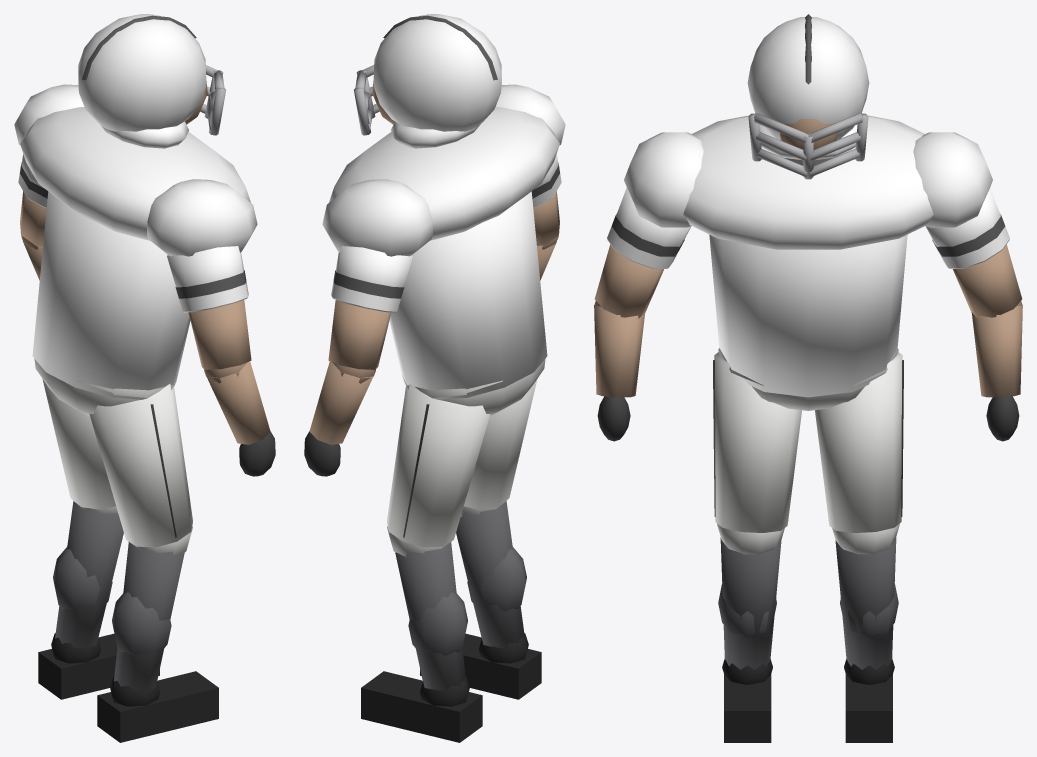
The model's file is player.glb.
The picture shows the model from 3 angles, left to right: view 1: azimuth 30°, elevation 25°; view 2: azimuth 150°, elevation 25°; view 3: azimuth 270°, elevation 25°; orthographic projection. The views are drawn at different scales.
Parts seen in each view (by area): view 1: torso, shin_R, thigh_R, shin_L, upperarm_R, forearm_R, thigh_L, hips, upperarm_L; view 2: torso, shin_L, thigh_L, shin_R, upperarm_L, forearm_L, thigh_R, hips, upperarm_R; view 3: torso, thigh_L, thigh_R, shin_L, shin_R, upperarm_L, upperarm_R, forearm_L, forearm_R, hips.
Boxes of the visible parts, x1,y1,x2,y2 form: torso: (14, 14, 257, 399); shin_R: (97, 526, 218, 742); thigh_R: (89, 384, 192, 547); shin_L: (38, 500, 159, 699); upperarm_R: (167, 246, 251, 369); forearm_R: (204, 361, 275, 476); thigh_L: (42, 379, 115, 509); hips: (34, 359, 177, 415); upperarm_L: (18, 154, 48, 245); torso: (322, 14, 565, 399); shin_L: (361, 526, 482, 742); thigh_L: (387, 384, 490, 547); shin_R: (420, 500, 541, 699); upperarm_L: (328, 246, 412, 369); forearm_L: (304, 361, 375, 476); thigh_R: (464, 379, 537, 509); hips: (402, 359, 545, 415); upperarm_R: (531, 154, 561, 245); torso: (624, 14, 992, 397); thigh_L: (815, 352, 903, 532); thigh_R: (713, 352, 801, 532); shin_L: (832, 523, 899, 742); shin_R: (717, 523, 784, 742); upperarm_L: (925, 188, 1022, 318); upperarm_R: (594, 188, 691, 318); forearm_L: (971, 301, 1022, 441); forearm_R: (594, 301, 645, 441); hips: (718, 348, 898, 410).
Size of the model in its own units: 0.5416 by 2 by 1.11.
